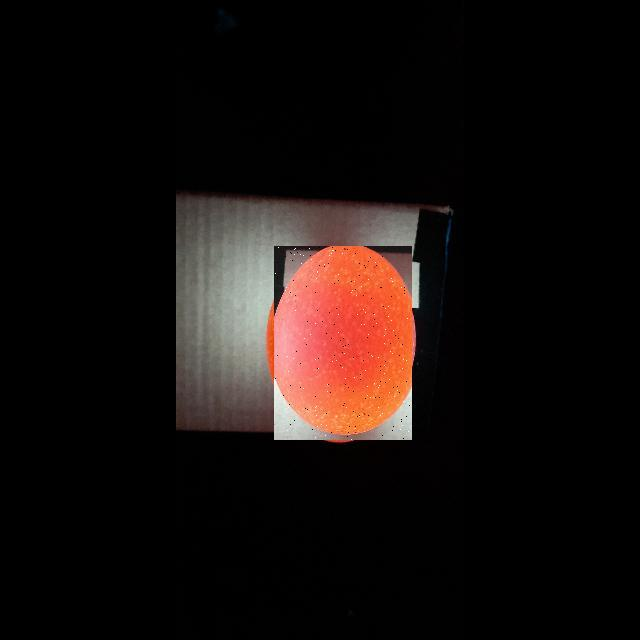AA - Premium: (274, 246, 412, 440)
